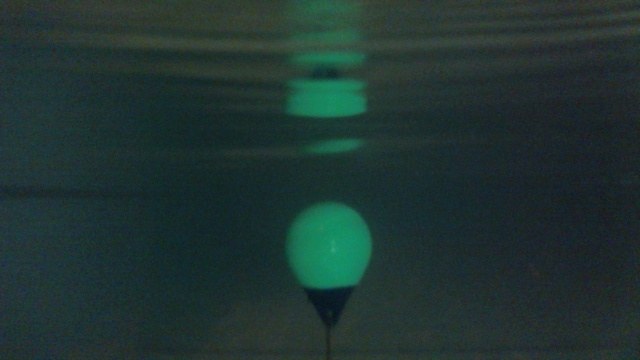buoy_green: (283, 198, 374, 331)
